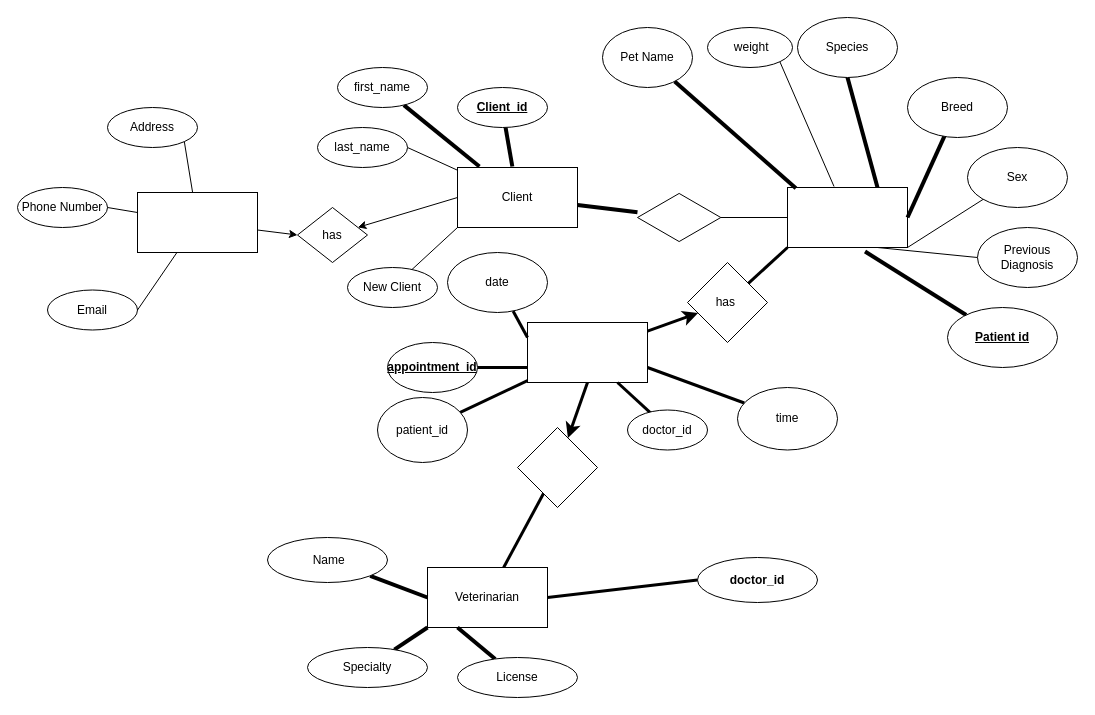
Image size: 1095x715. Some labels were removed from this diagram. The centre of each missing label's shape, as x and y in pixels:
"Appointment" belongs at pixel 587 352.
"Contact information" belongs at pixel 197 222.
"Has a" belongs at pixel 678 217.
"Pet" belongs at pixel 847 217.
"sees" belongs at pixel 557 467.
